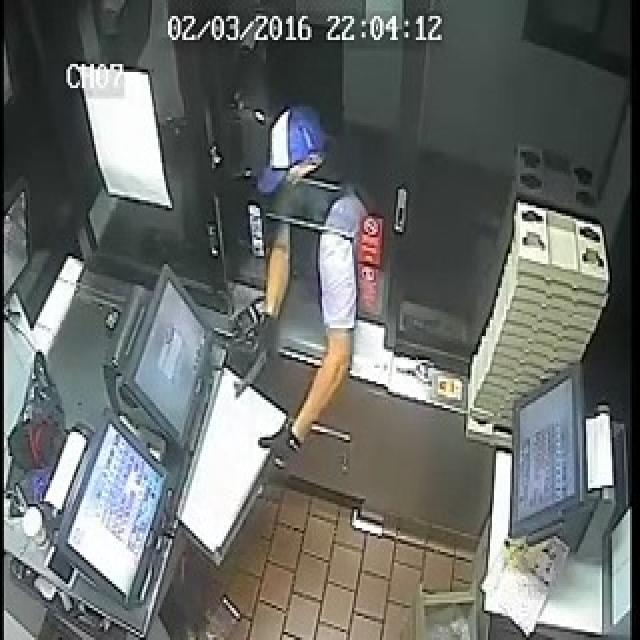thief: (264, 116, 368, 328)
